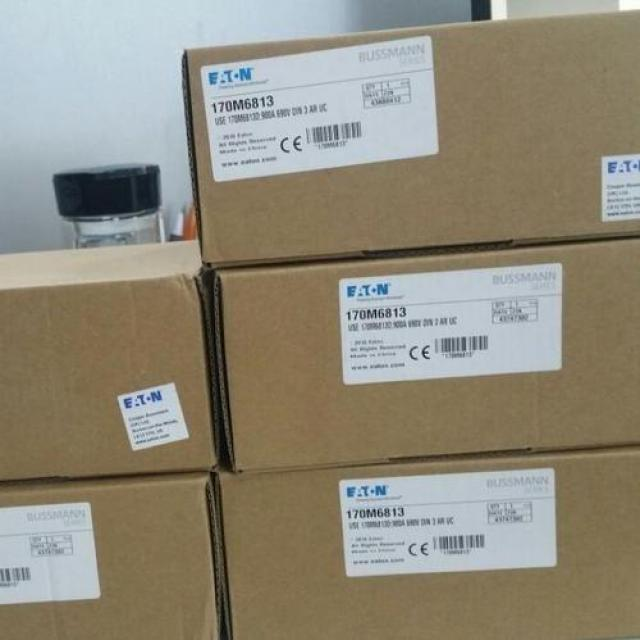box: (179, 5, 640, 269), (217, 232, 640, 474), (223, 449, 640, 640), (0, 244, 226, 482), (0, 473, 231, 640)
